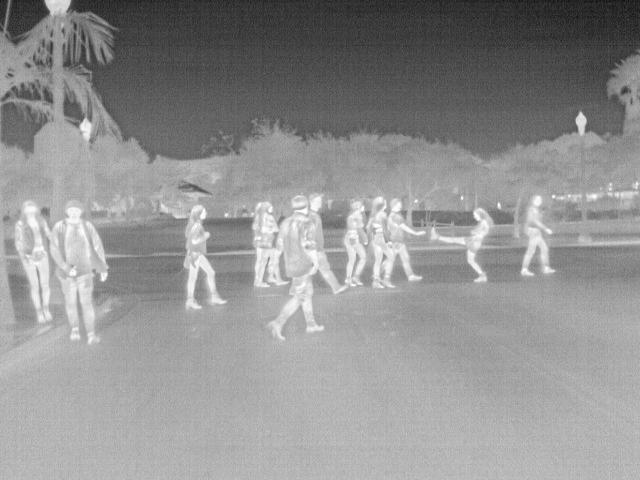person: (49, 200, 112, 346), (264, 193, 325, 341), (13, 198, 54, 330), (428, 204, 494, 284), (181, 204, 227, 310), (306, 188, 349, 296), (384, 198, 424, 283), (520, 194, 559, 278), (254, 200, 290, 287), (366, 195, 396, 286), (343, 197, 367, 286)
